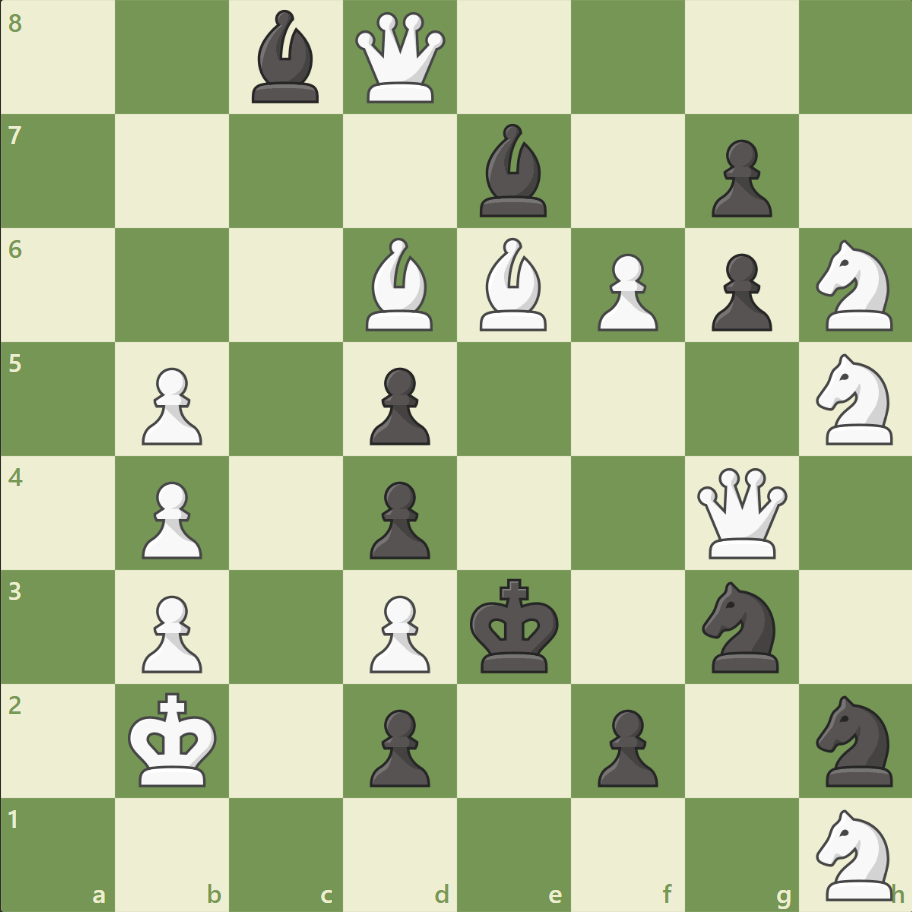B: (358, 233, 442, 336), (471, 233, 555, 336)
K: (124, 685, 224, 793)
N: (806, 234, 903, 337), (806, 348, 903, 450), (806, 802, 903, 904)
P: (133, 359, 208, 450), (133, 473, 208, 564), (133, 586, 208, 677), (588, 246, 662, 337), (361, 586, 435, 677)
Q: (351, 9, 450, 108), (691, 463, 790, 562)
b: (244, 6, 328, 109), (471, 120, 555, 222)
k: (465, 571, 565, 679)
n: (806, 688, 903, 791), (692, 575, 789, 677)
p: (701, 132, 776, 223), (701, 246, 776, 337), (361, 359, 435, 450), (361, 473, 435, 564), (361, 700, 435, 791), (588, 700, 662, 791)
